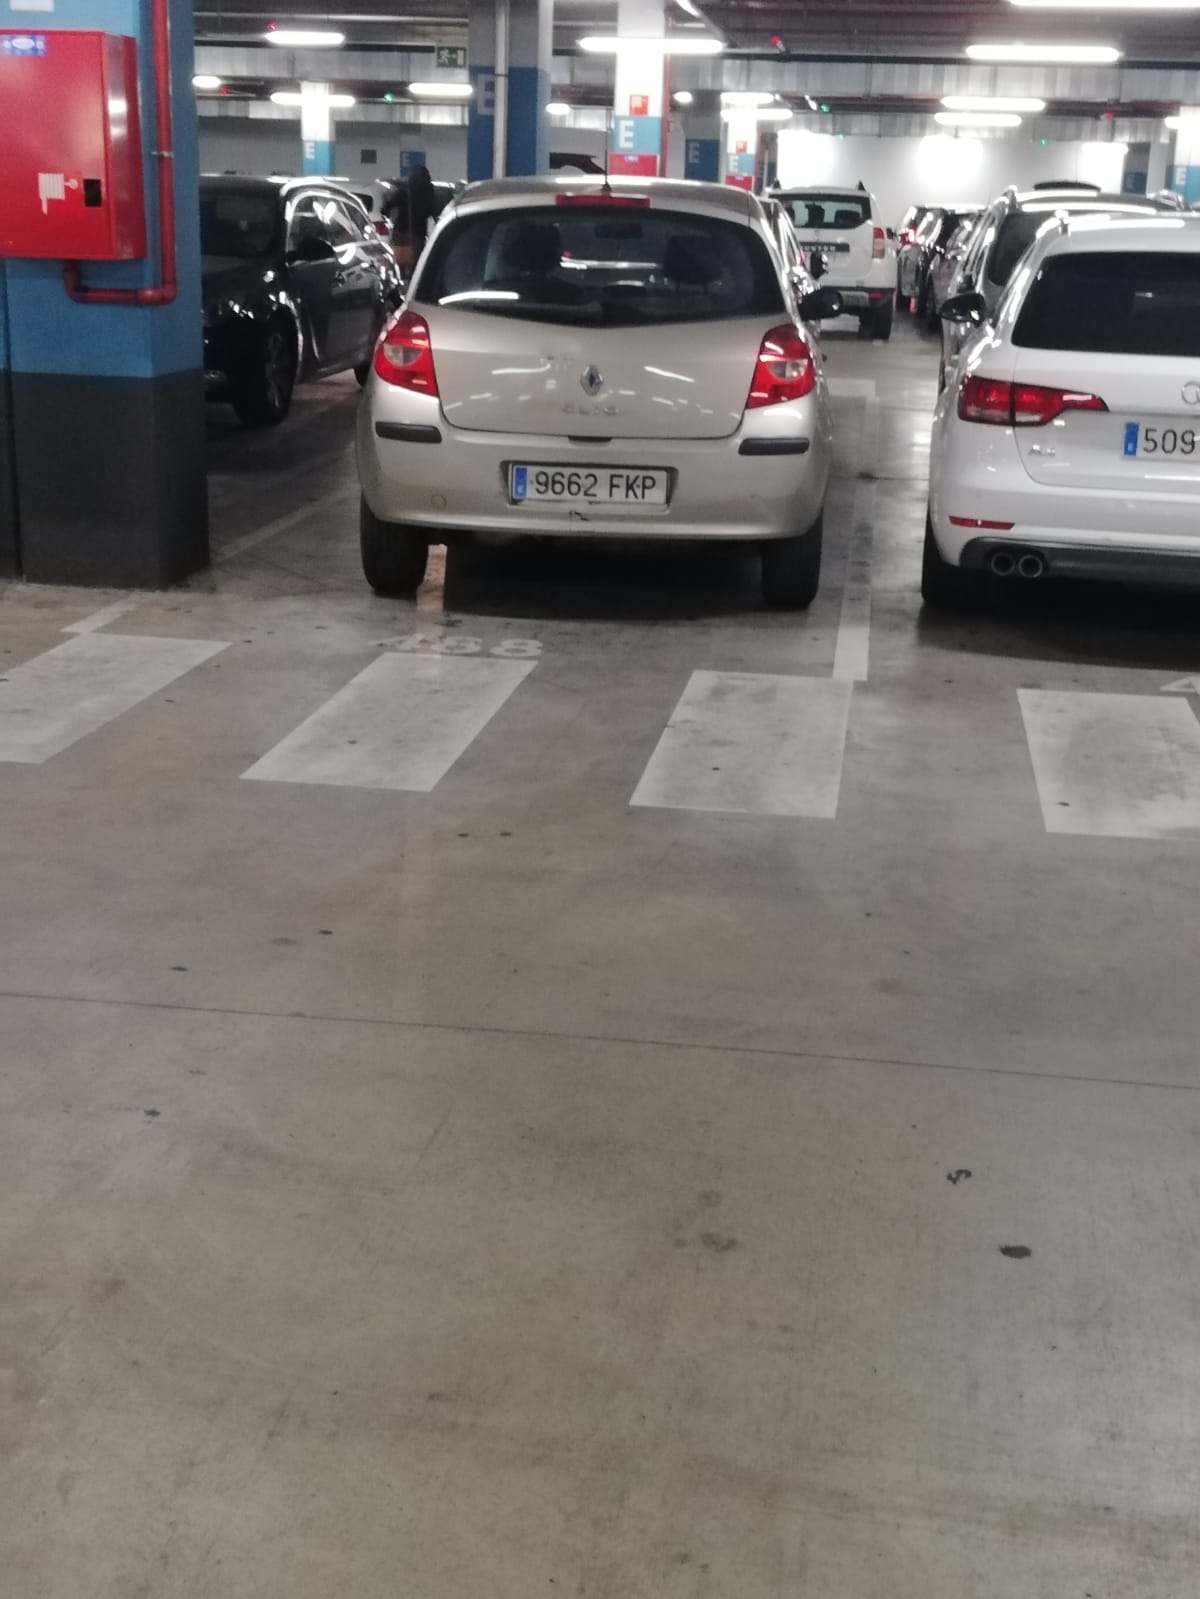Car: (359, 176, 823, 604)
Plate: (503, 463, 671, 498)
